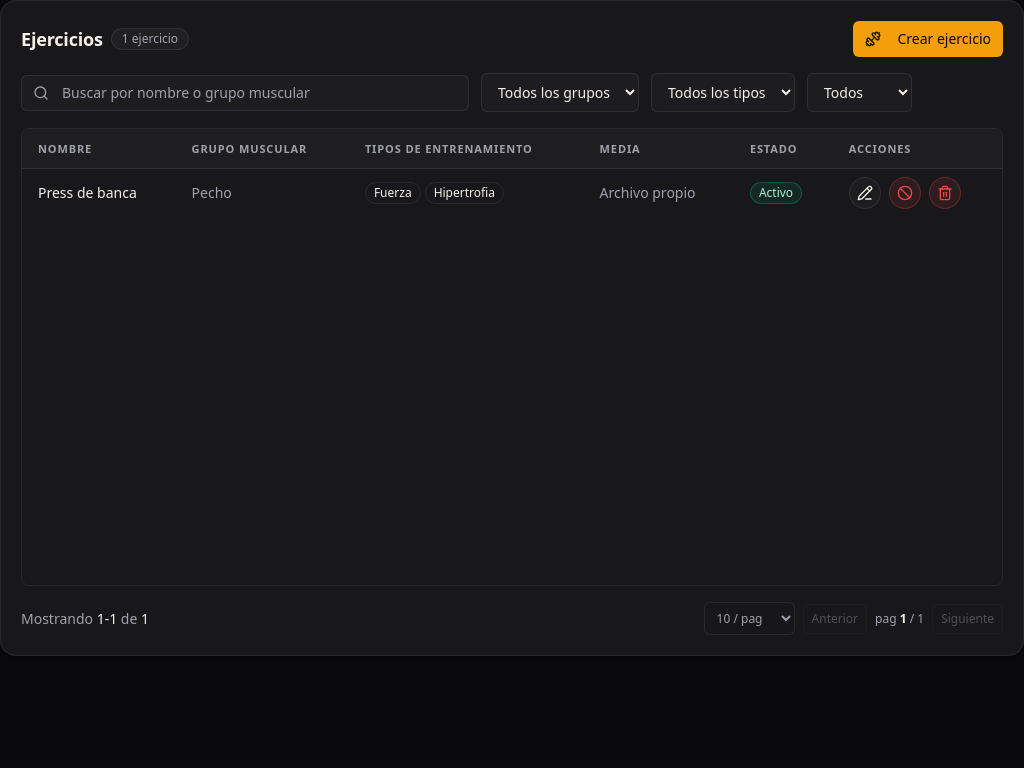
Test: vista de Ejercicios › muestra el archivo propio cuando el ejercicio tiene archivo y URL externa
The width and height of the screenshot is (1024, 768).
Check: the text "Press de banca" is shown, box [22,169,176,217]
What coordinates should you click on to do the following:
click the button named "Editar"
I would click on:
 (865, 193)
Its box is [849,177,881,209].
(page scrolled)
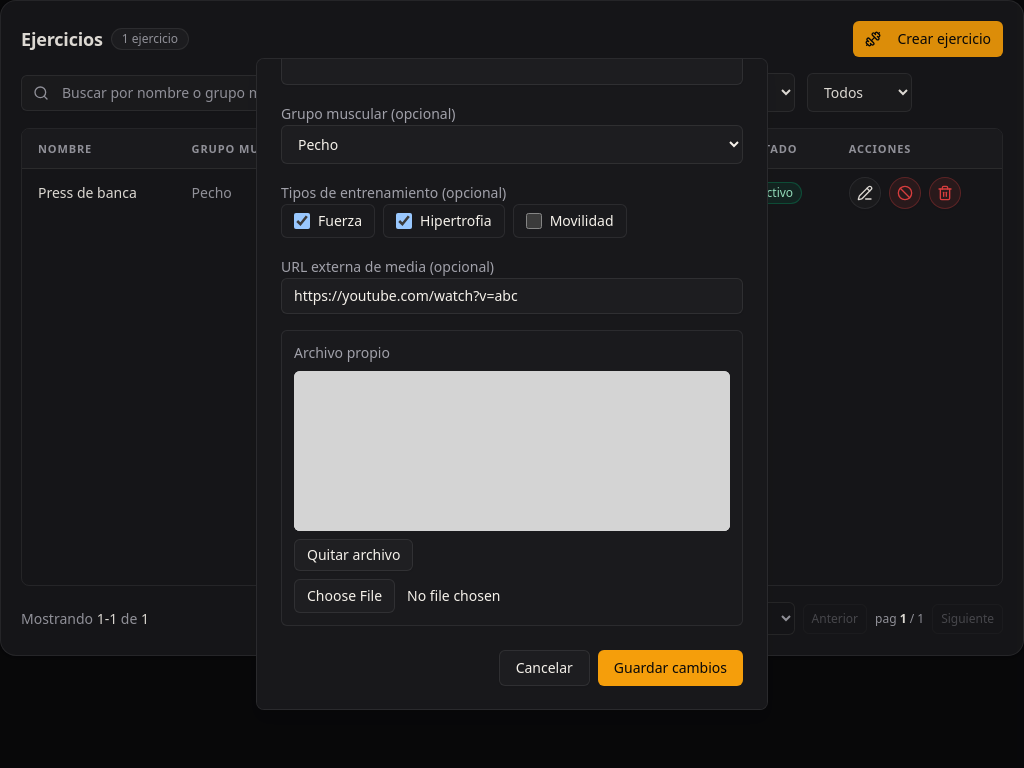
Check: the button "Quitar archivo" is shown, box [294,539,414,571]
